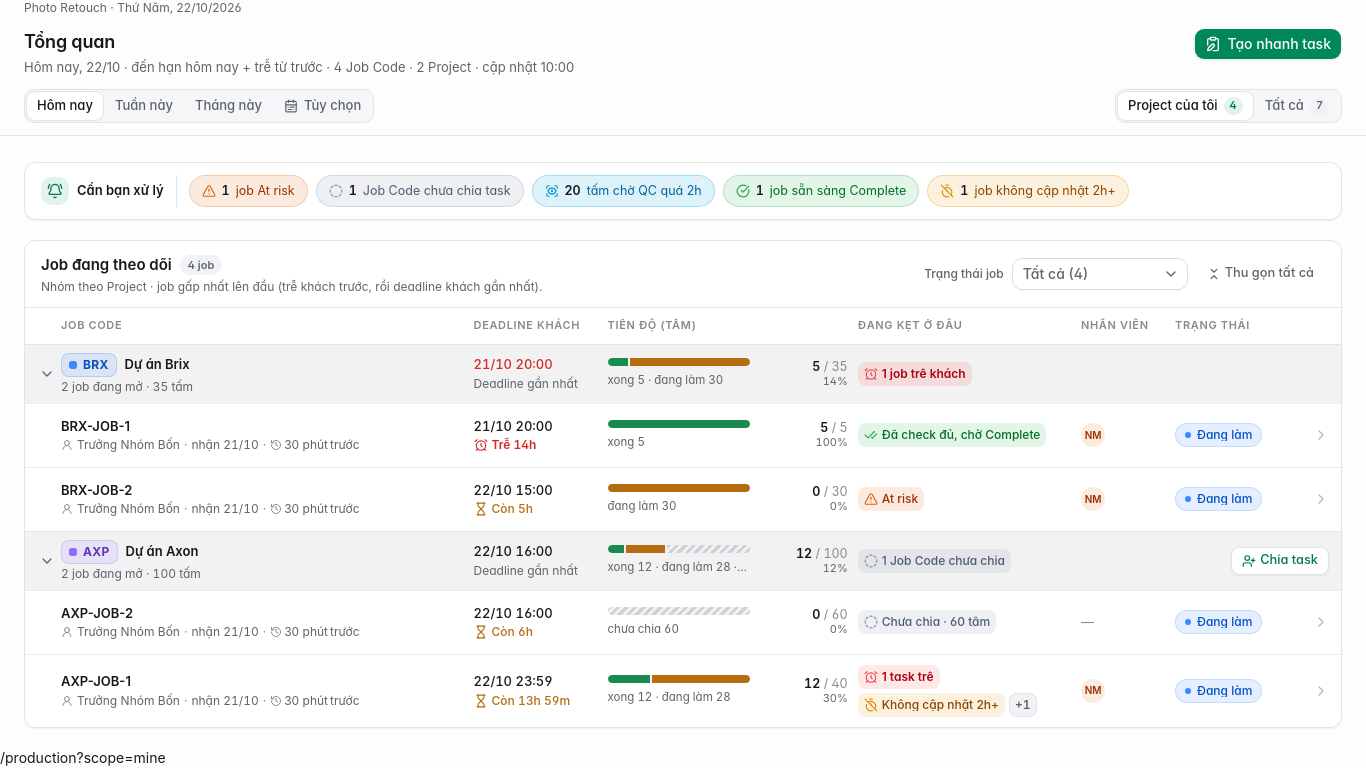
Test: /production — Tổng quan V2 (PD-080) › a Leader's 'Chia task' opens the Chia Task form with the project's Job Codes without tasks on top
(page scrolled)
Click the button with aria-label "Chia task cho Project AXP" at {"x": 1280, "y": 561}, box [1231, 547, 1329, 575]
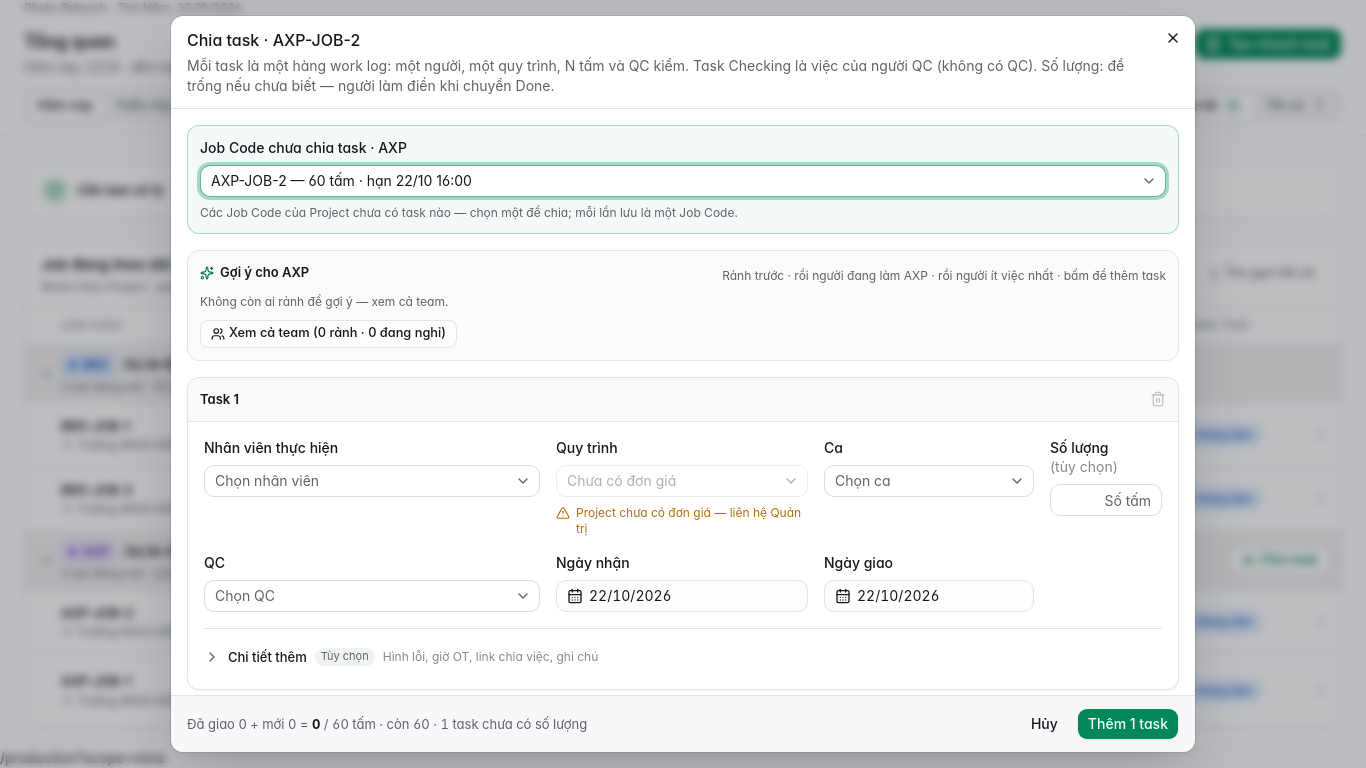
Expected: the heading "Chia task · AXP-JOB-2" is shown, [187, 30, 360, 50]
Expected: the text "Job Code chưa chia task · AXP" is shown, [200, 139, 407, 156]
Expected: the dropdown named "Job Code chưa chia task" shows "AXP-JOB-2 — 60 tấm · hạn 22/10 16:00", [200, 165, 1166, 197]
